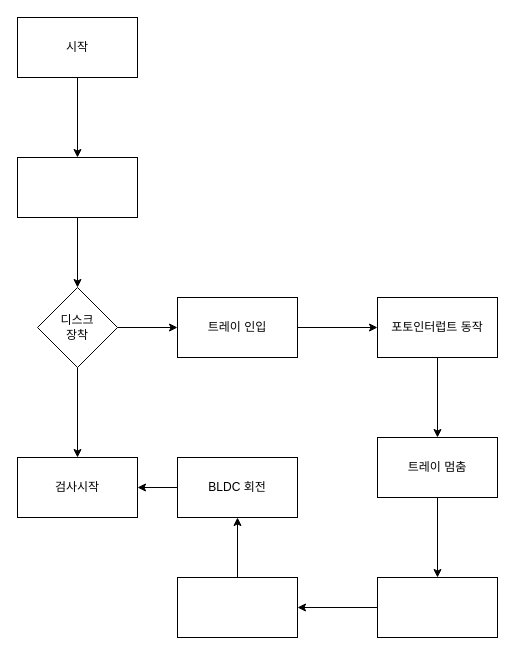
This 515x655 diagram has some shape labels left out. The shapes that lost their labels are listed below. From the top down, each one's centre as x and y in pixels, then its label:
At (x=77, y=187): "트레이모터 동작".
At (x=237, y=607): "스텝모터 정지 후 BLDC 동작".
At (x=437, y=607): "스텝모터 동작".
